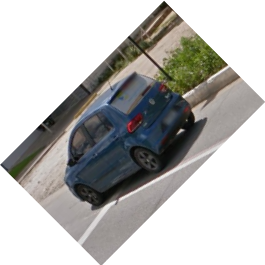car: (62, 70, 195, 206)
